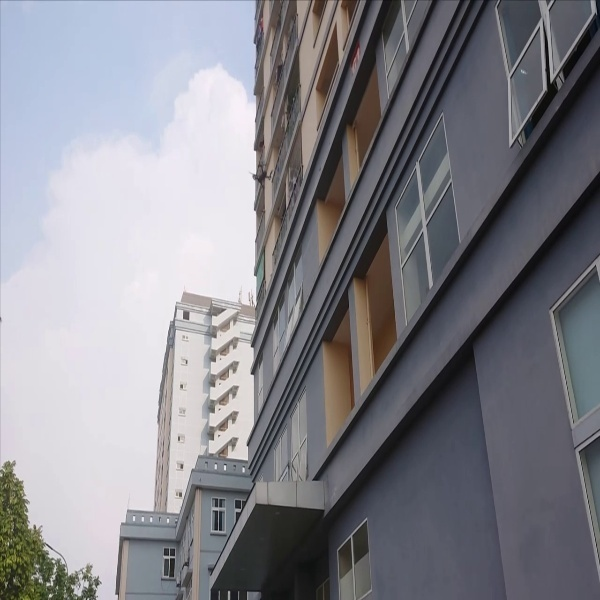drone: (247, 153, 276, 193)
